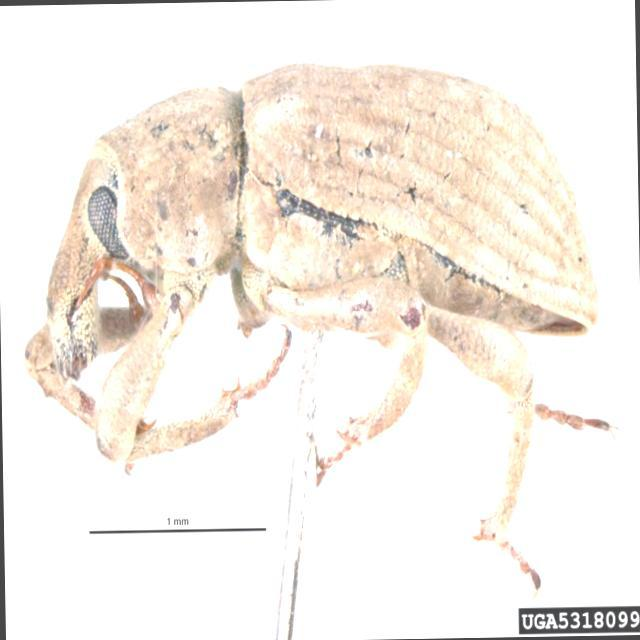ricebug: (26, 66, 595, 537)
